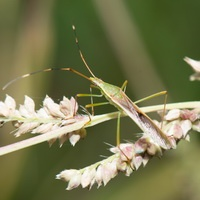insect: (4, 37, 175, 187), (0, 96, 116, 155)
